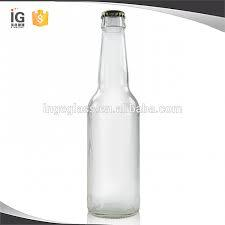Glass bottle: (72, 5, 165, 220)
